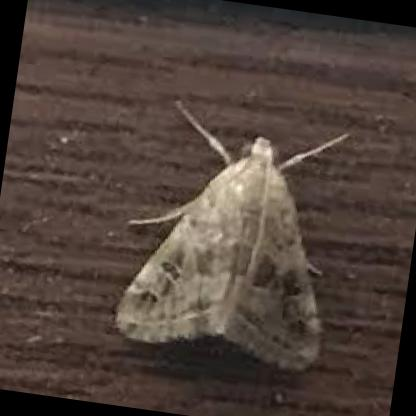Hellula undalis: (101, 76, 366, 391)
